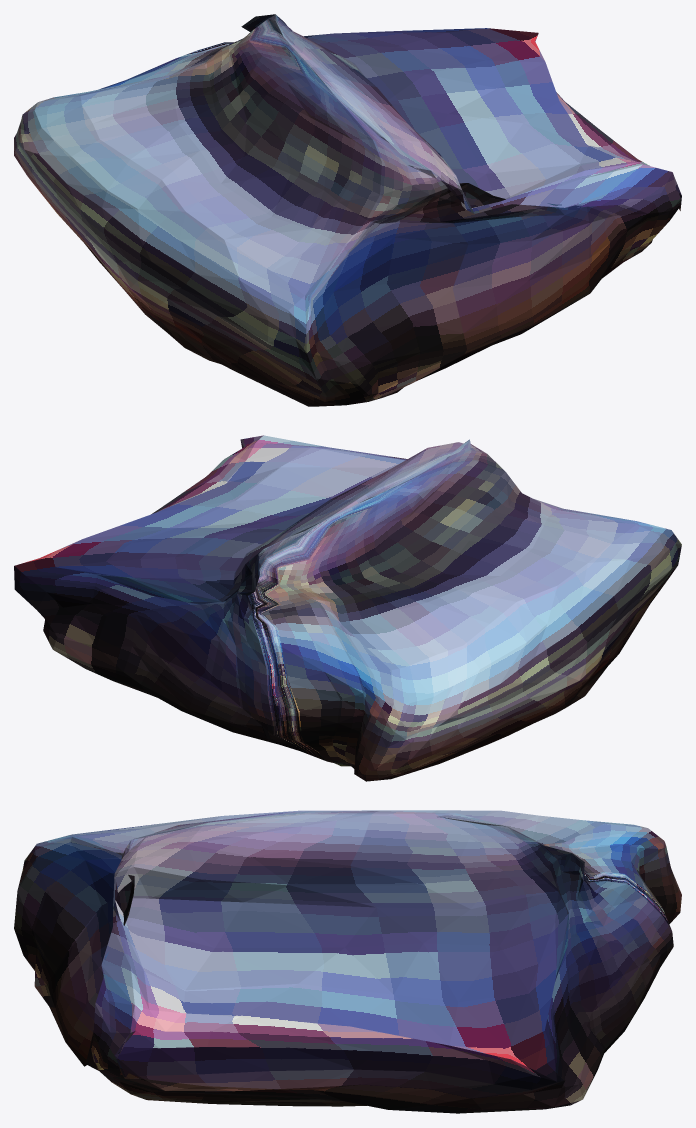
File: video3_131.obj
3 renders of one model, top to bottom at view 1: azimuth 30°, elevation 25°; view 2: azimuth 150°, elevation 25°; view 3: azimuth 270°, elevation 25°, orthographic. The views are drawn at different scales.
Size of the model in its own units: 0.9463 by 0.3921 by 1.
1 material, 1 textured.
